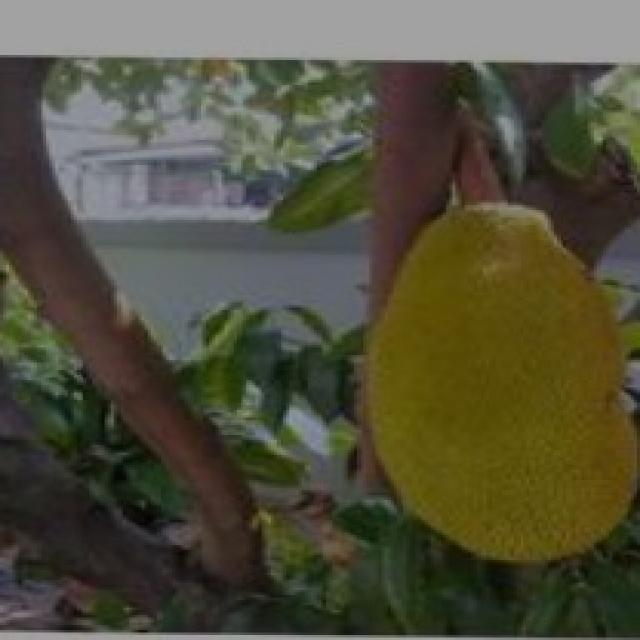Fruit: (311, 185, 640, 595)
